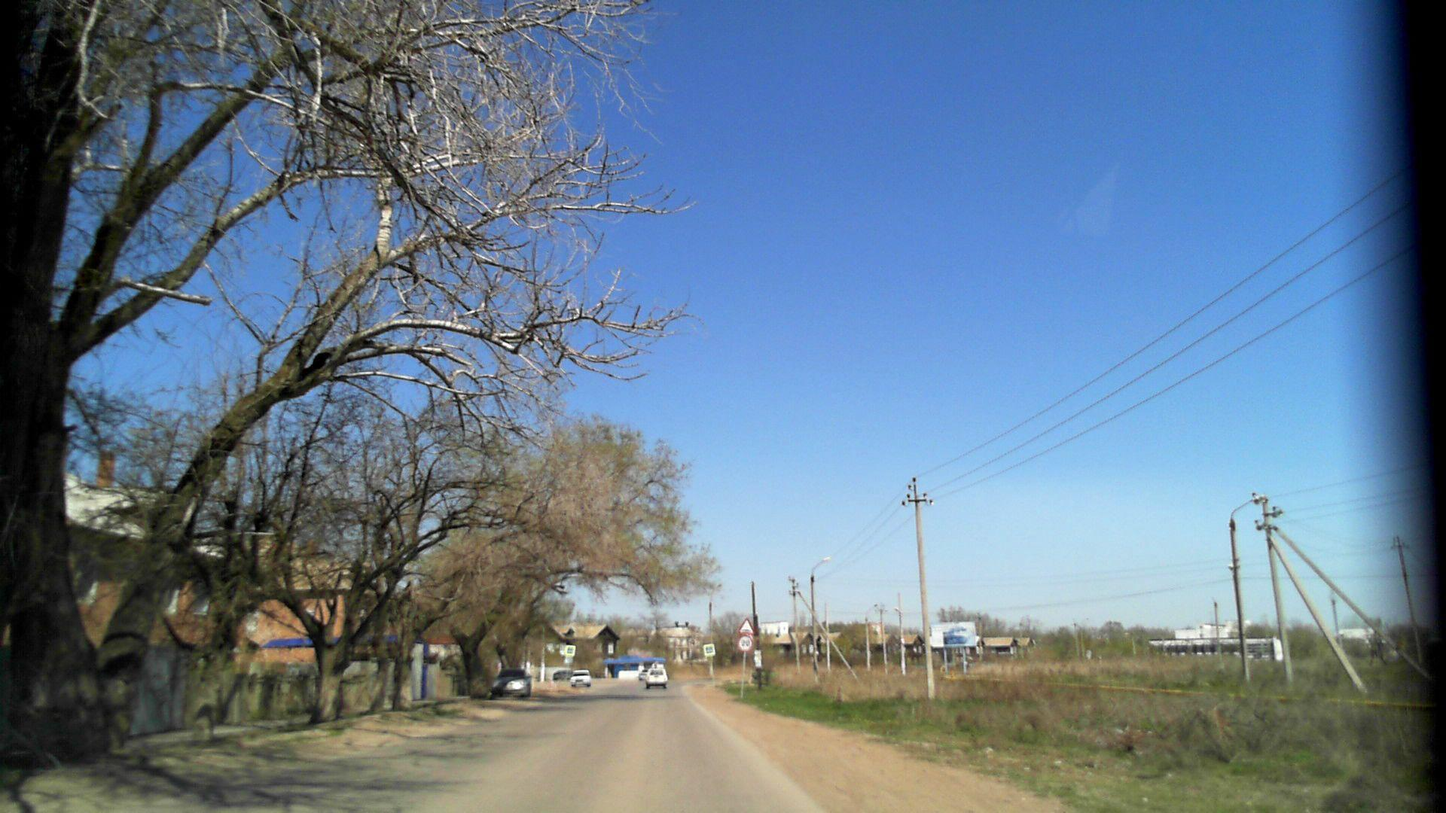road_sign: (736, 618, 755, 634), (737, 635, 754, 651)
